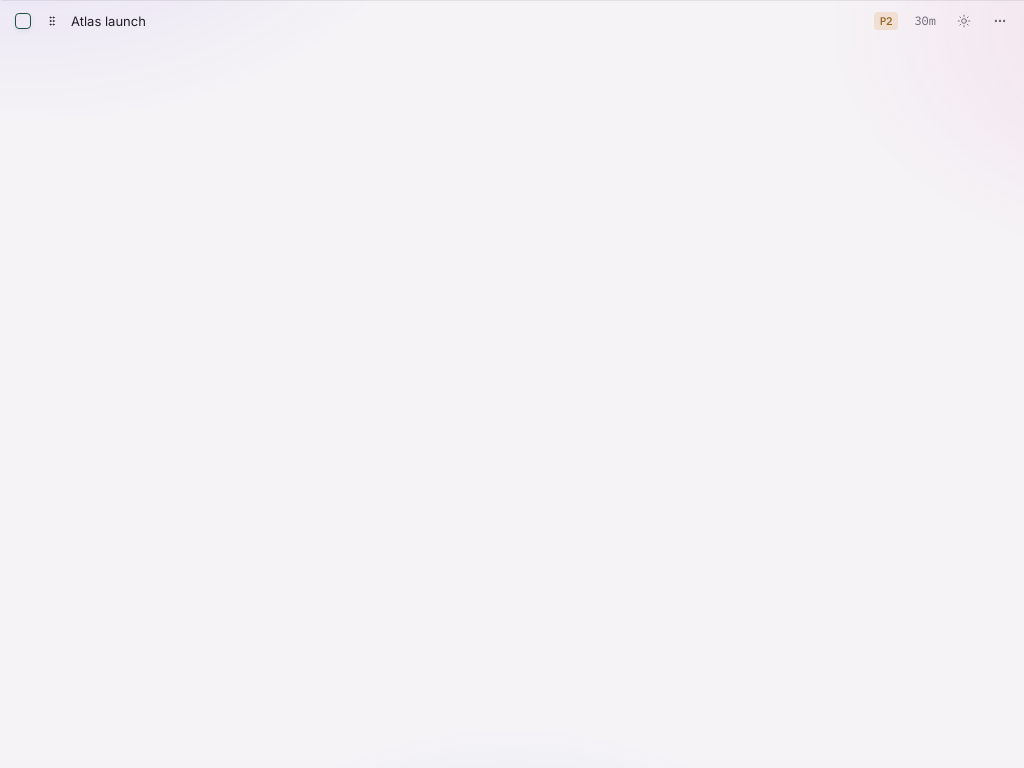
Test: TaskRow — pickers opened from ⋯ (chunk 77a) › (4) Set priority… stays open on a row with a chip too
The image size is (1024, 768).
Press Enter in the button named "Actions for \"Atlas launch\"", box [988,9,1012,33]
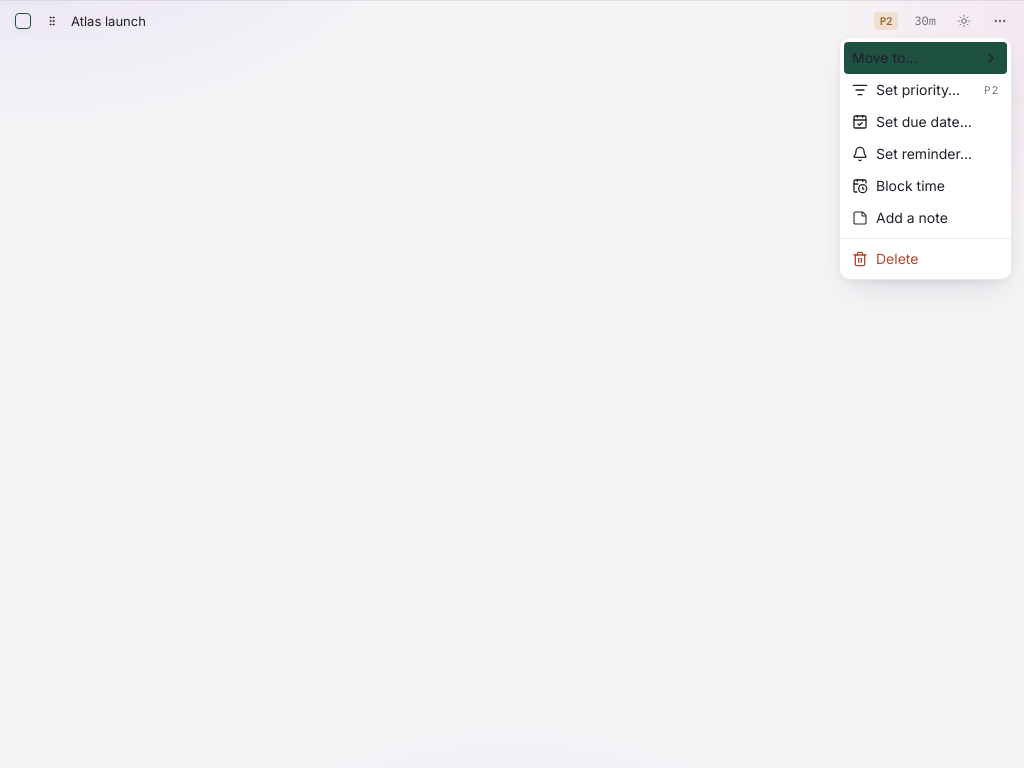
Click the menu item "Set priority… P2" at (926, 90), box [852,81,999,98]
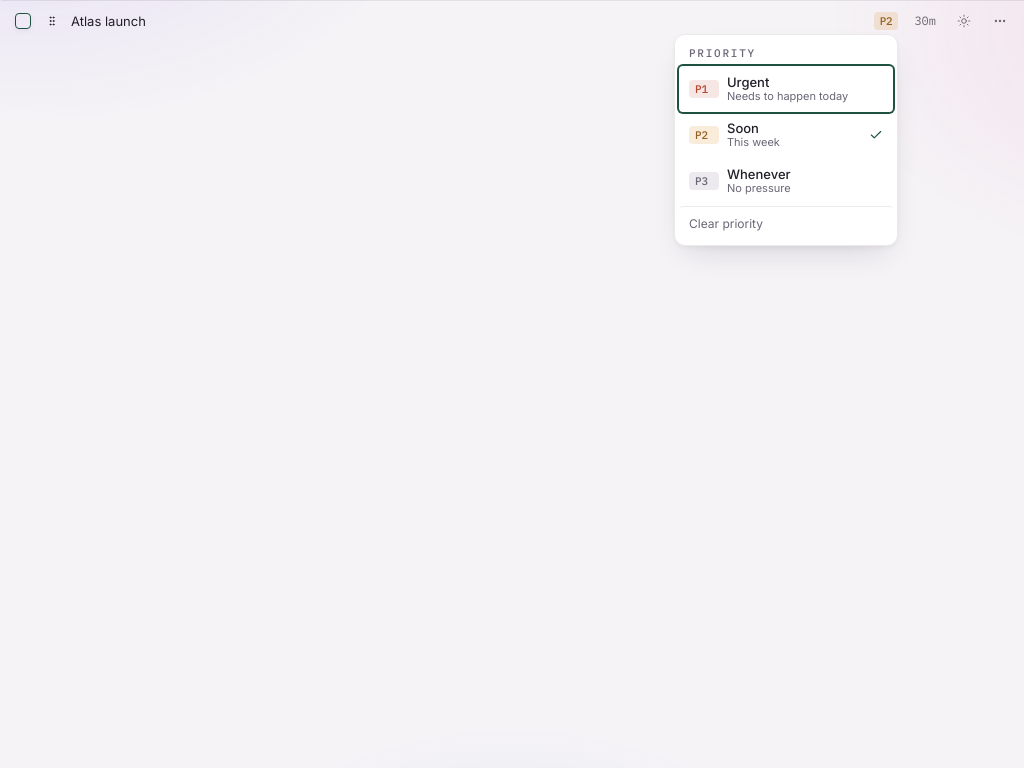
Check: the menu is gone
Check: the number of dialogs is 1, box [674,34,898,246]
Check: the text "Priority" is shown, box [689,46,756,60]
